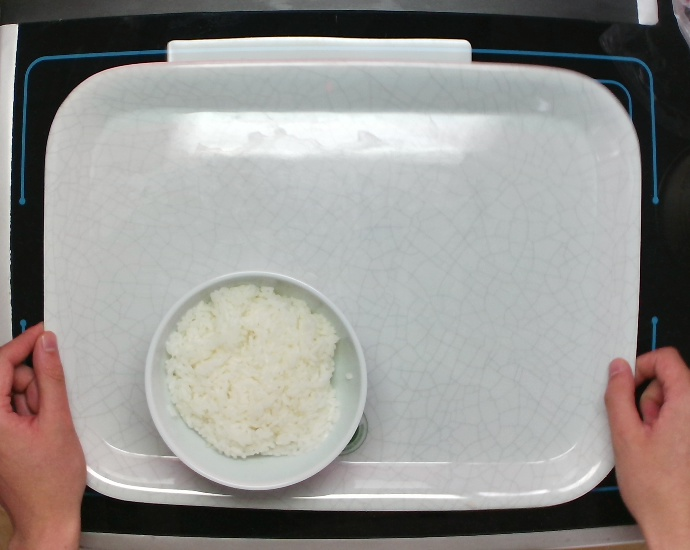JYsf-Fan_Wan: (140, 267, 370, 493)
